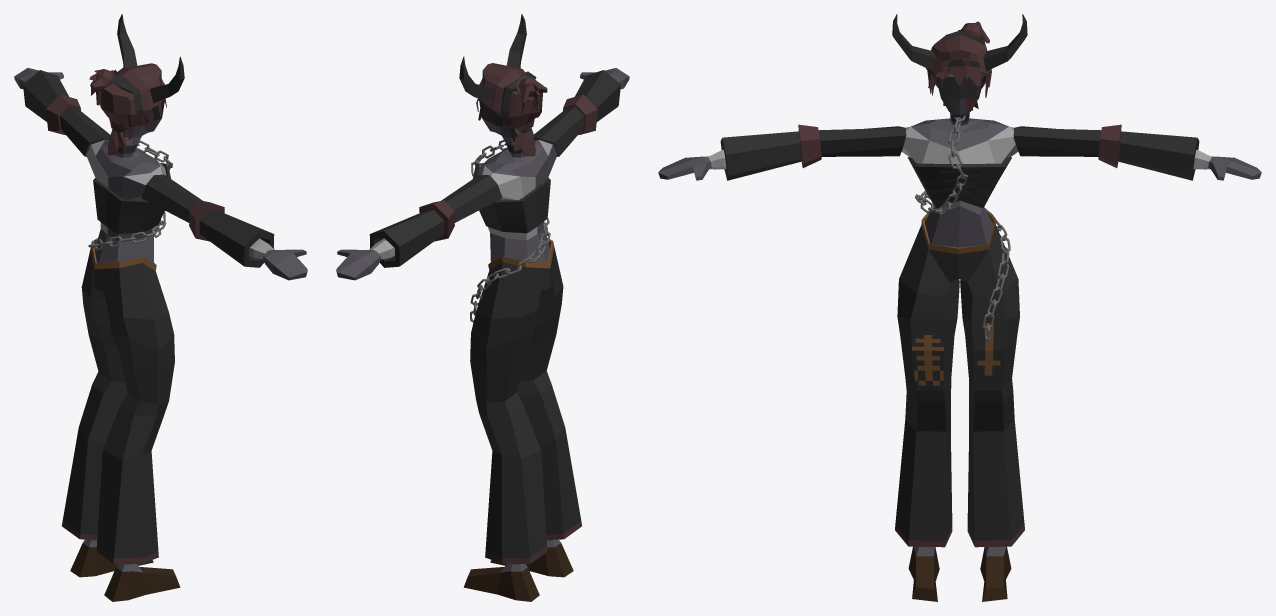
The model's file is demongall.fbx.
The picture shows the model from 3 angles, left to right: view 1: azimuth 30°, elevation 25°; view 2: azimuth 150°, elevation 25°; view 3: azimuth 270°, elevation 25°; orthographic projection. The views are drawn at different scales.
Visible parts, largest first — view 1: Cube.017; view 2: Cube.017; view 3: Cube.017.
Boxes of the visible parts, x1=… form: Cube.017: x1=14, y1=14, x2=307, y2=601; Cube.017: x1=336, y1=14, x2=629, y2=601; Cube.017: x1=658, y1=14, x2=1261, y2=601.
Size of the model in its own units: 35.76 by 189 by 178.
